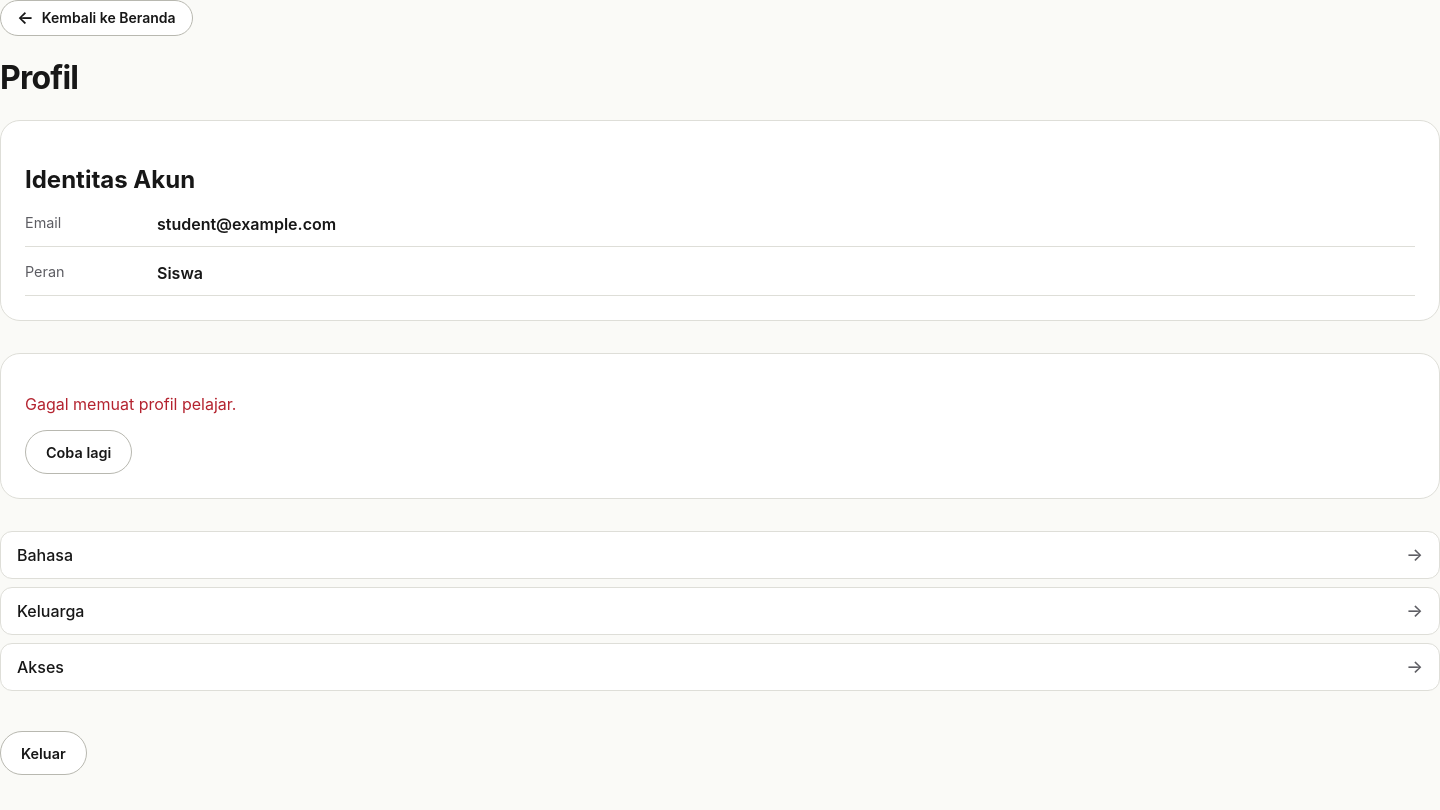
Test case: ProfilePage › shows retry button on profile load failure
This screenshot has width=1440, height=810.
expect the text "Gagal memuat profil pelajar." is shown: met, box [25,394,236,414]
Click the button "Coba lagi". click: point(79, 452)
box: [25,430,132,474]
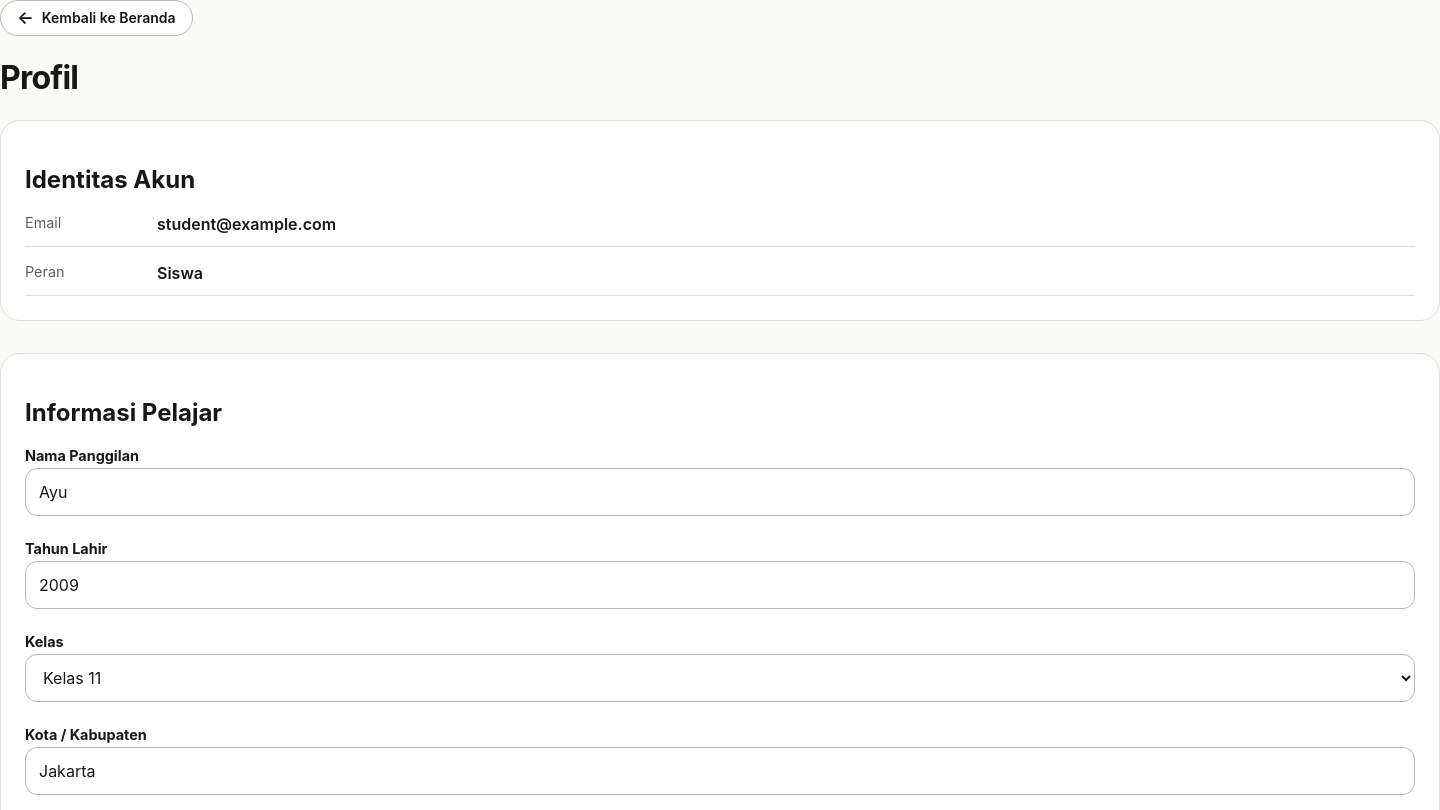
expect the field showing "Ayu" is shown: met, box [25,468,1415,516]
